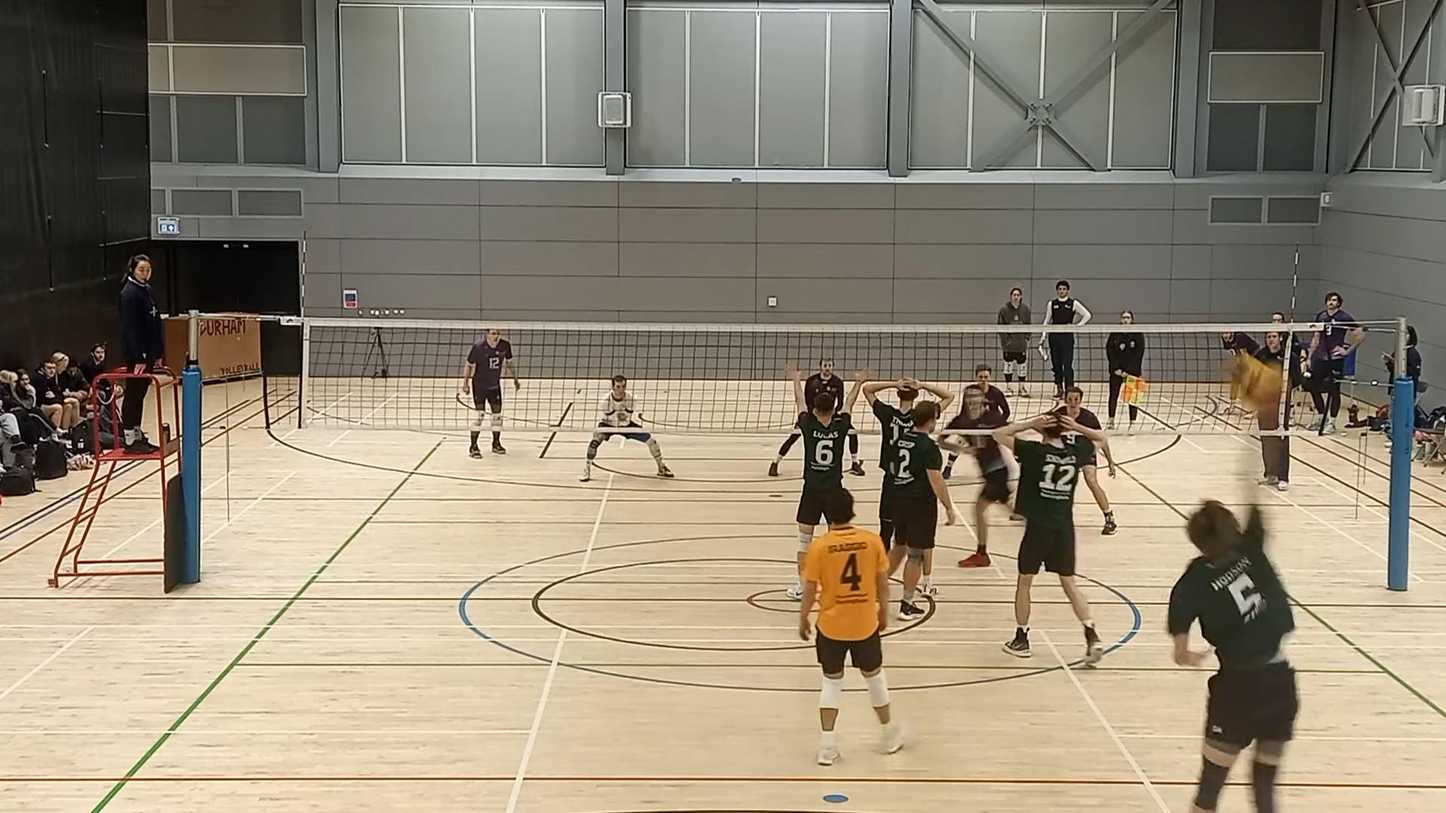Player: (799, 487, 903, 765), (993, 413, 1104, 665), (786, 368, 867, 600), (862, 378, 953, 550), (886, 401, 956, 620), (944, 384, 1011, 567), (580, 375, 673, 481), (462, 329, 520, 457), (804, 357, 847, 410), (973, 364, 1010, 422), (1055, 386, 1102, 431)
Serve: (1160, 416, 1303, 813)
